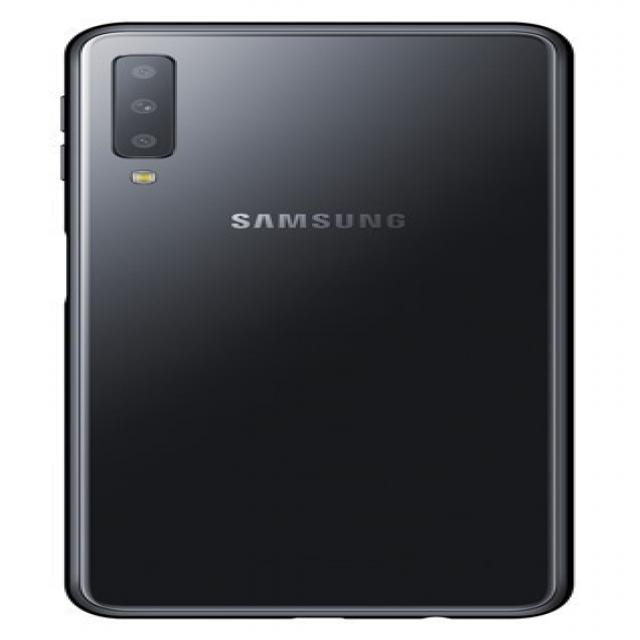phone: (56, 21, 580, 622)
